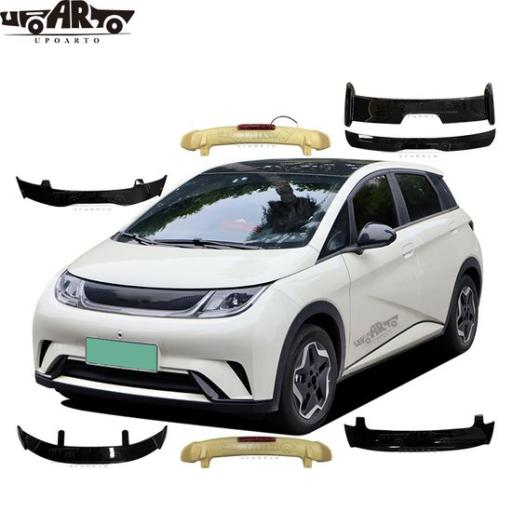hatchback: (34, 158, 480, 411)
